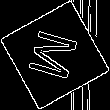M_E: (24, 26, 86, 84)
